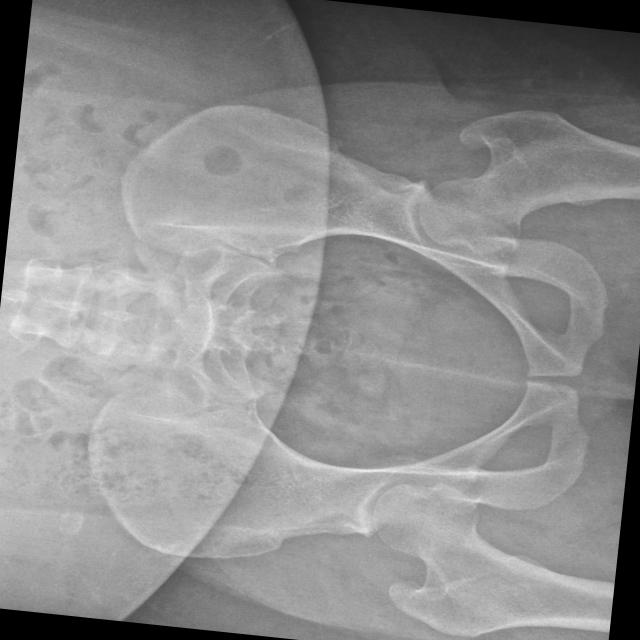normal-left: (419, 109, 640, 252)
normal-right: (372, 481, 614, 636)
